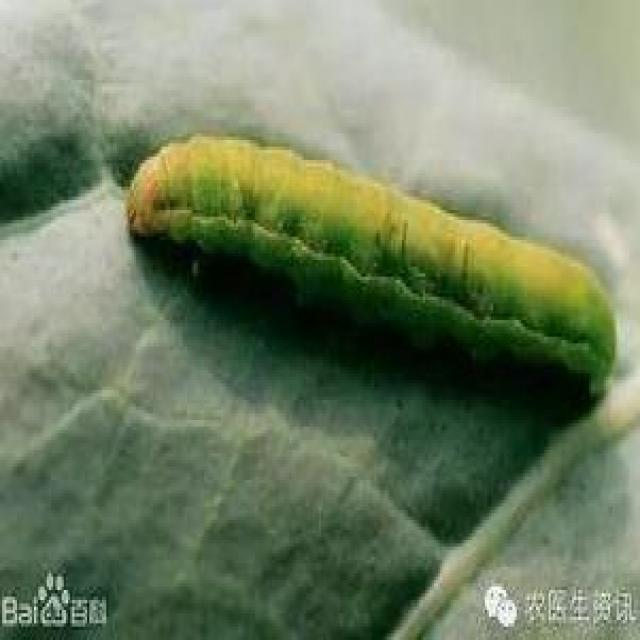BeetArmyWorm-Larva-: (113, 123, 624, 399)
